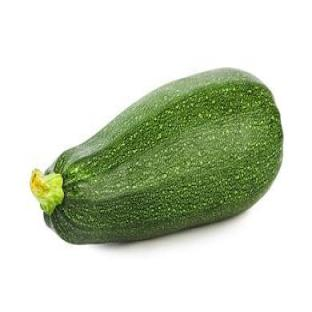Zucchini: (31, 69, 282, 243)
